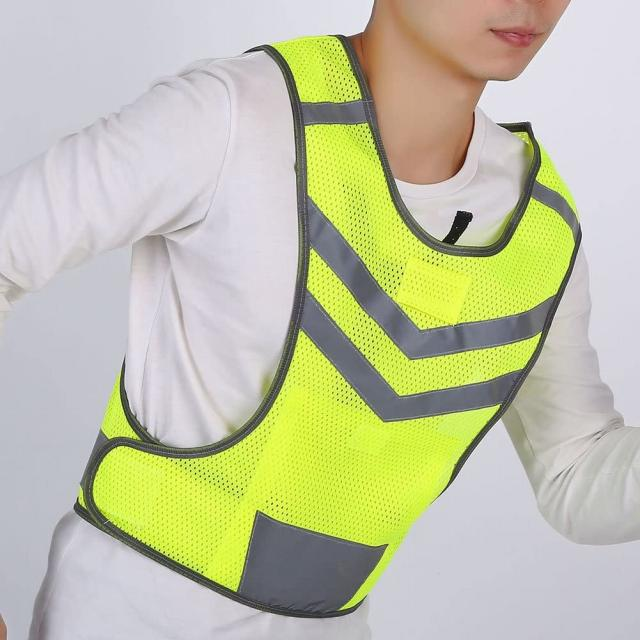Reflective-Jacket: (60, 8, 599, 640)
